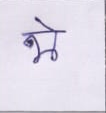o_matra: (48, 22, 60, 61)
